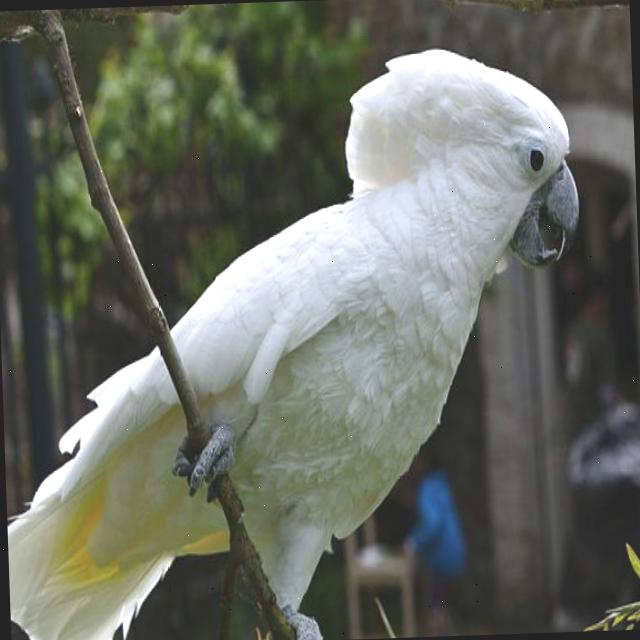Kakatua Putih: (0, 23, 609, 640)
